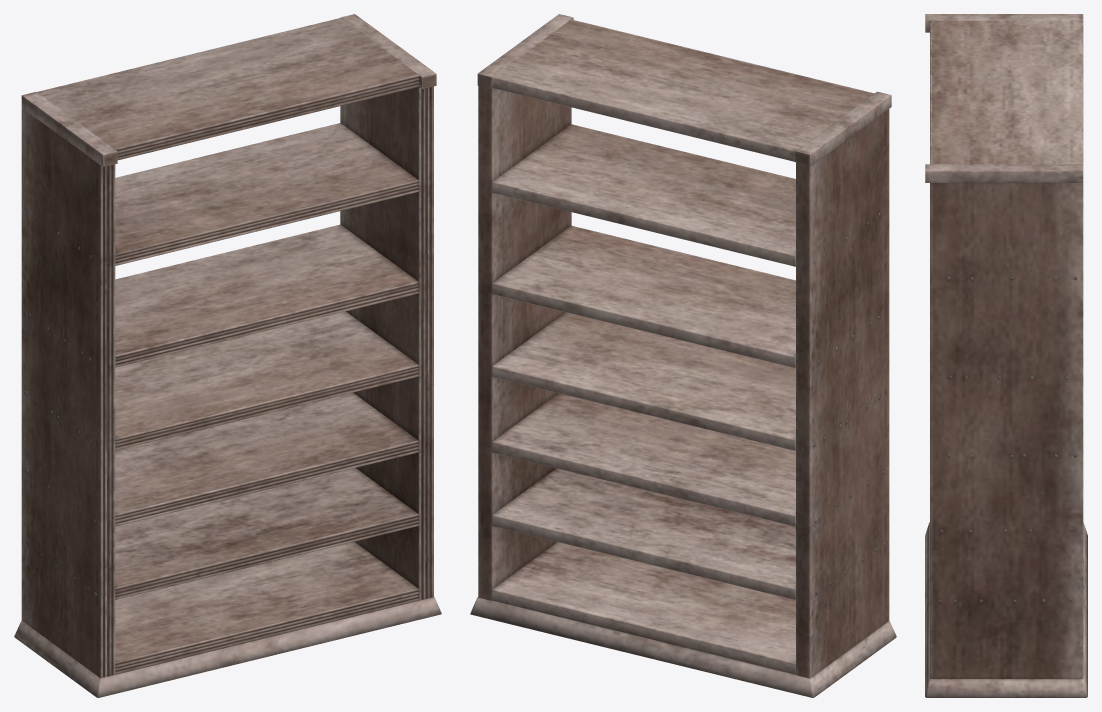
The model's file is ph2_wooden_bookshelf_worn.glb.
3 renders of one model, left to right at view 1: azimuth 30°, elevation 25°; view 2: azimuth 150°, elevation 25°; view 3: azimuth 270°, elevation 25°, orthographic. The views are drawn at different scales.
Size of the model in its own units: 1.37 by 2.06 by 0.5813.
Materials: 1 (1 with a texture image).
